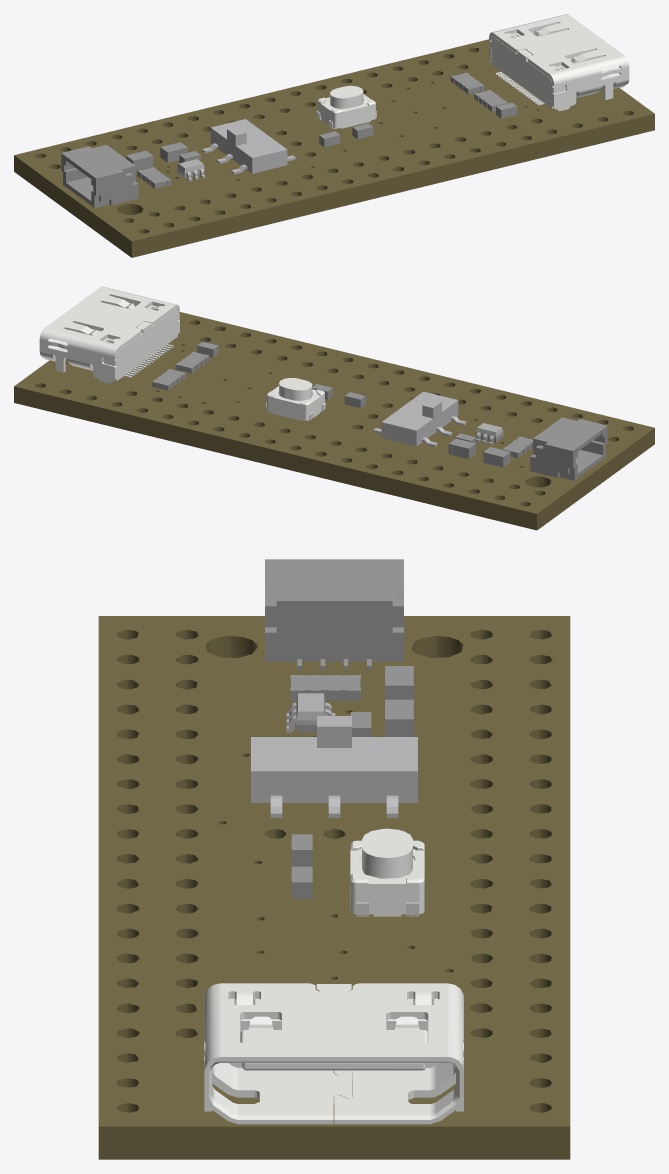
File: ada-5745.glb
3 renders of one model, top to bottom at view 1: azimuth 30°, elevation 25°; view 2: azimuth 150°, elevation 25°; view 3: azimuth 270°, elevation 25°, orthographic. The views are drawn at different scales.
Parts seen in each view (by area): view 1: 0.16666666666666666_0.16666666666666666_0.08333333333333333_, 0.9166666666666666_0.9166666666666666_0.9166666666666666_0.8, 0.3333333333333333_0.3333333333333333_0.3333333333333333_0, 0.5833333333333334_0.5833333333333334_0.5833333333333334_0.8, 0.5_0.5_0.5_0.85; view 2: 0.16666666666666666_0.16666666666666666_0.08333333333333333_, 0.9166666666666666_0.9166666666666666_0.9166666666666666_0.8, 0.3333333333333333_0.3333333333333333_0.3333333333333333_0, 0.5833333333333334_0.5833333333333334_0.5833333333333334_0.8, 0.5_0.5_0.5_0.85; view 3: 0.16666666666666666_0.16666666666666666_0.08333333333333333_, 0.9166666666666666_0.9166666666666666_0.9166666666666666_0.8, 0.3333333333333333_0.3333333333333333_0.3333333333333333_0, 0.5833333333333334_0.5833333333333334_0.5833333333333334_0.8, 0.5_0.5_0.5_0.85.
Boxes of the visible parts, left/top/right/bottom form: 0.16666666666666666_0.16666666666666666_0.08333333333333333_: left=14, top=39, right=654, bottom=257; 0.9166666666666666_0.9166666666666666_0.9166666666666666_0.8: left=316, top=14, right=629, bottom=128; 0.3333333333333333_0.3333333333333333_0.3333333333333333_0: left=61, top=72, right=517, bottom=208; 0.5833333333333334_0.5833333333333334_0.5833333333333334_0.8: left=202, top=119, right=295, bottom=174; 0.5_0.5_0.5_0.85: left=177, top=159, right=205, bottom=181; 0.16666666666666666_0.16666666666666666_0.08333333333333333_: left=14, top=312, right=654, bottom=530; 0.9166666666666666_0.9166666666666666_0.9166666666666666_0.8: left=39, top=286, right=325, bottom=421; 0.3333333333333333_0.3333333333333333_0.3333333333333333_0: left=152, top=341, right=607, bottom=480; 0.5833333333333334_0.5833333333333334_0.5833333333333334_0.8: left=373, top=391, right=466, bottom=446; 0.5_0.5_0.5_0.85: left=476, top=423, right=503, bottom=445; 0.16666666666666666_0.16666666666666666_0.08333333333333333_: left=98, top=616, right=570, bottom=1159; 0.9166666666666666_0.9166666666666666_0.9166666666666666_0.8: left=204, top=828, right=463, bottom=1124; 0.3333333333333333_0.3333333333333333_0.3333333333333333_0: left=265, top=559, right=413, bottom=898; 0.5833333333333334_0.5833333333333334_0.5833333333333334_0.8: left=251, top=716, right=417, bottom=817; 0.5_0.5_0.5_0.85: left=286, top=693, right=335, bottom=733.
Size of the model in its own units: 5.22 by 0.492 by 2.03.
